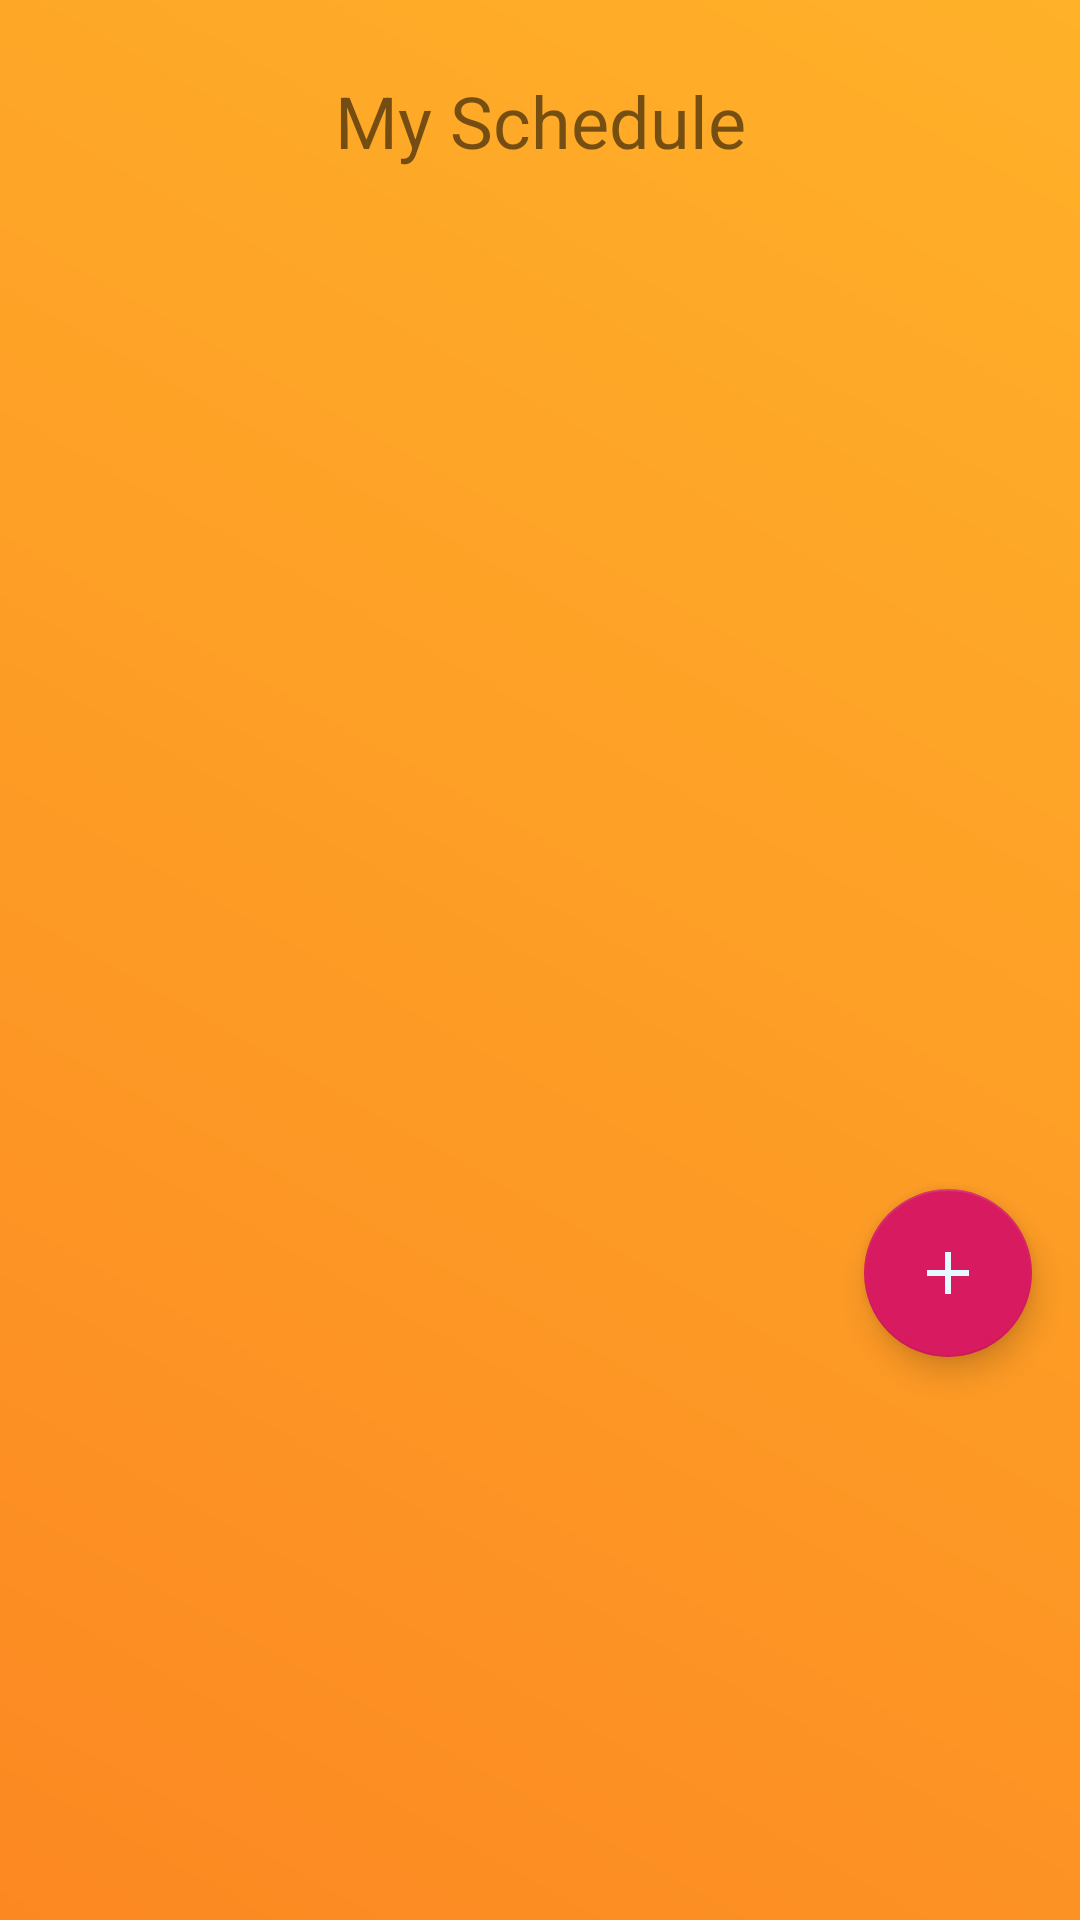

Named icons in this screenshot (1080x1920) and their bounding boxes, [x1,y1,x2,y2]:
add: [864,1189,1032,1357]
